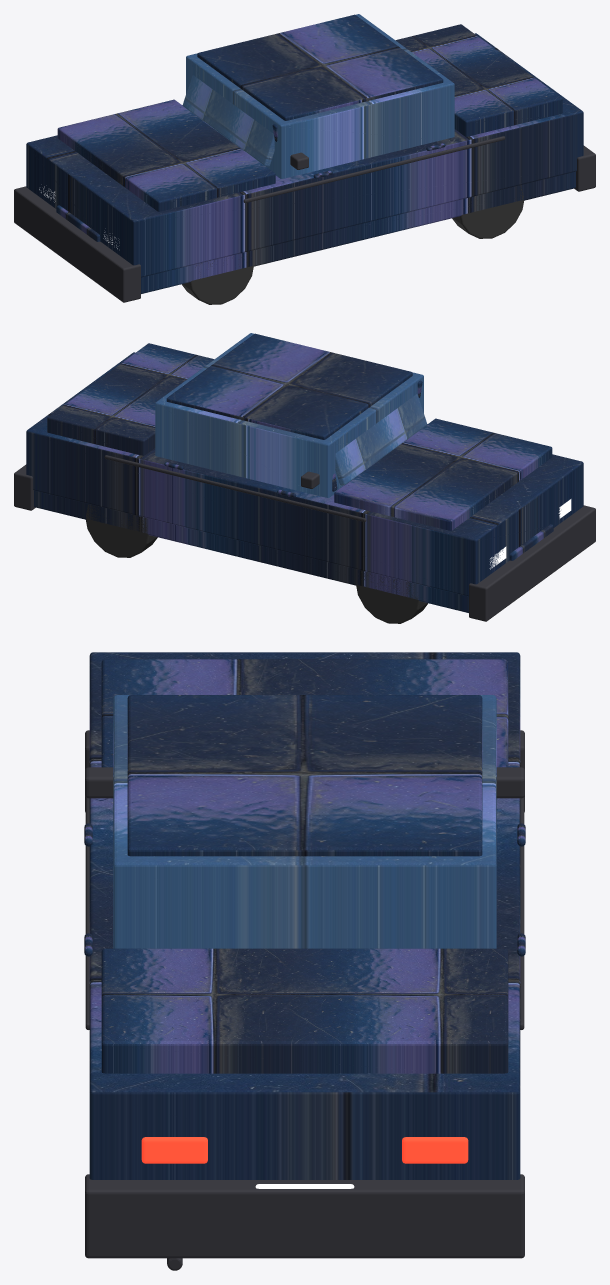
The model's file is car.glb.
The picture shows the model from 3 angles, top to bottom: view 1: azimuth 30°, elevation 25°; view 2: azimuth 150°, elevation 25°; view 3: azimuth 270°, elevation 25°; orthographic projection. The views are drawn at different scales.
Visible parts, largest first — view 1: car; view 2: car; view 3: car.
Boxes of the visible parts, x1=… form: car: x1=14, y1=14, x2=595, y2=304; car: x1=14, y1=333, x2=595, y2=623; car: x1=84, y1=652, x2=525, y2=1270.
Size of the model in its own units: 4.62 by 1.53 by 1.87.
Materials: 8 (4 with a texture image).
